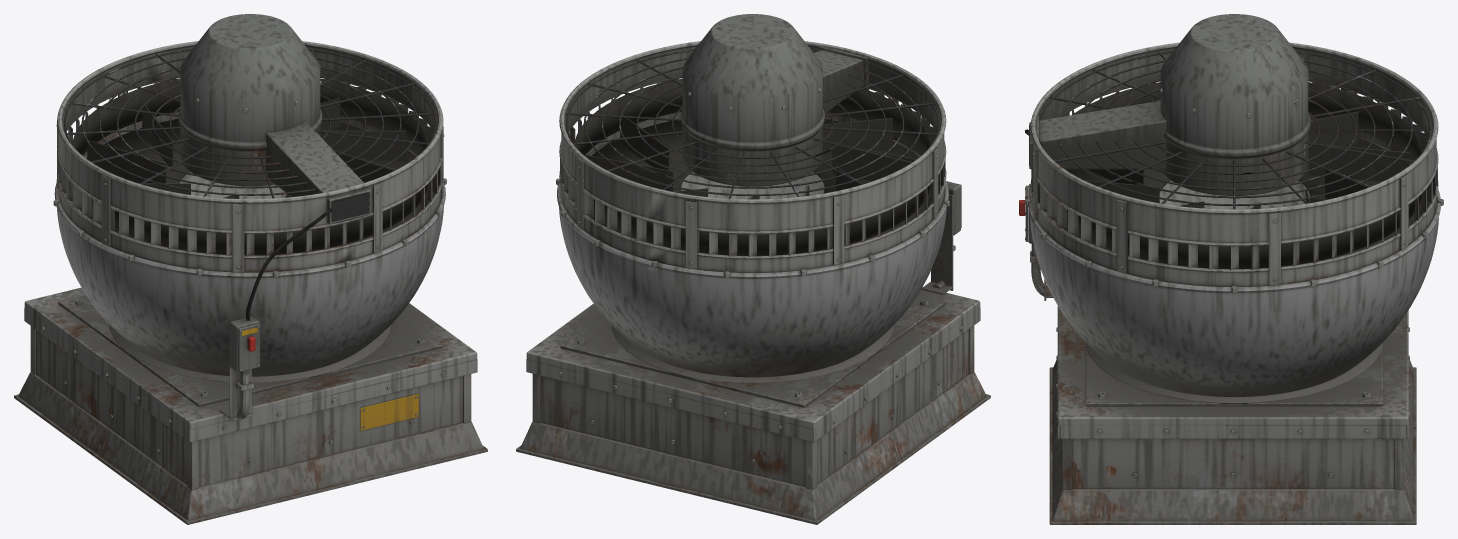
The picture shows the model from 3 angles, left to right: view 1: azimuth 30°, elevation 25°; view 2: azimuth 150°, elevation 25°; view 3: azimuth 270°, elevation 25°; orthographic projection. The views are drawn at different scales.
Parts seen in each view (by area): view 1: SM_OCK_RoofExhaustFan_B_Housing, SM_OCK_RoofExhaustFan_B_Curb, SM_OCK_RoofExhaustFan_B_Top; view 2: SM_OCK_RoofExhaustFan_B_Housing, SM_OCK_RoofExhaustFan_B_Curb, SM_OCK_RoofExhaustFan_B_Top; view 3: SM_OCK_RoofExhaustFan_B_Housing, SM_OCK_RoofExhaustFan_B_Curb, SM_OCK_RoofExhaustFan_B_Top.
Part boxes in pixels (x1=…): SM_OCK_RoofExhaustFan_B_Housing: x1=53, y1=41, x2=446, y2=382; SM_OCK_RoofExhaustFan_B_Curb: x1=14, y1=208, x2=487, y2=524; SM_OCK_RoofExhaustFan_B_Top: x1=64, y1=14, x2=437, y2=255; SM_OCK_RoofExhaustFan_B_Housing: x1=556, y1=41, x2=949, y2=383; SM_OCK_RoofExhaustFan_B_Curb: x1=516, y1=103, x2=990, y2=524; SM_OCK_RoofExhaustFan_B_Top: x1=565, y1=14, x2=939, y2=255; SM_OCK_RoofExhaustFan_B_Housing: x1=1025, y1=42, x2=1443, y2=403; SM_OCK_RoofExhaustFan_B_Curb: x1=1019, y1=129, x2=1416, y2=524; SM_OCK_RoofExhaustFan_B_Top: x1=1029, y1=14, x2=1432, y2=269.
Size of the model in its own units: 0.939 by 1.03 by 0.9542.
Materials: 3 (3 with a texture image).
